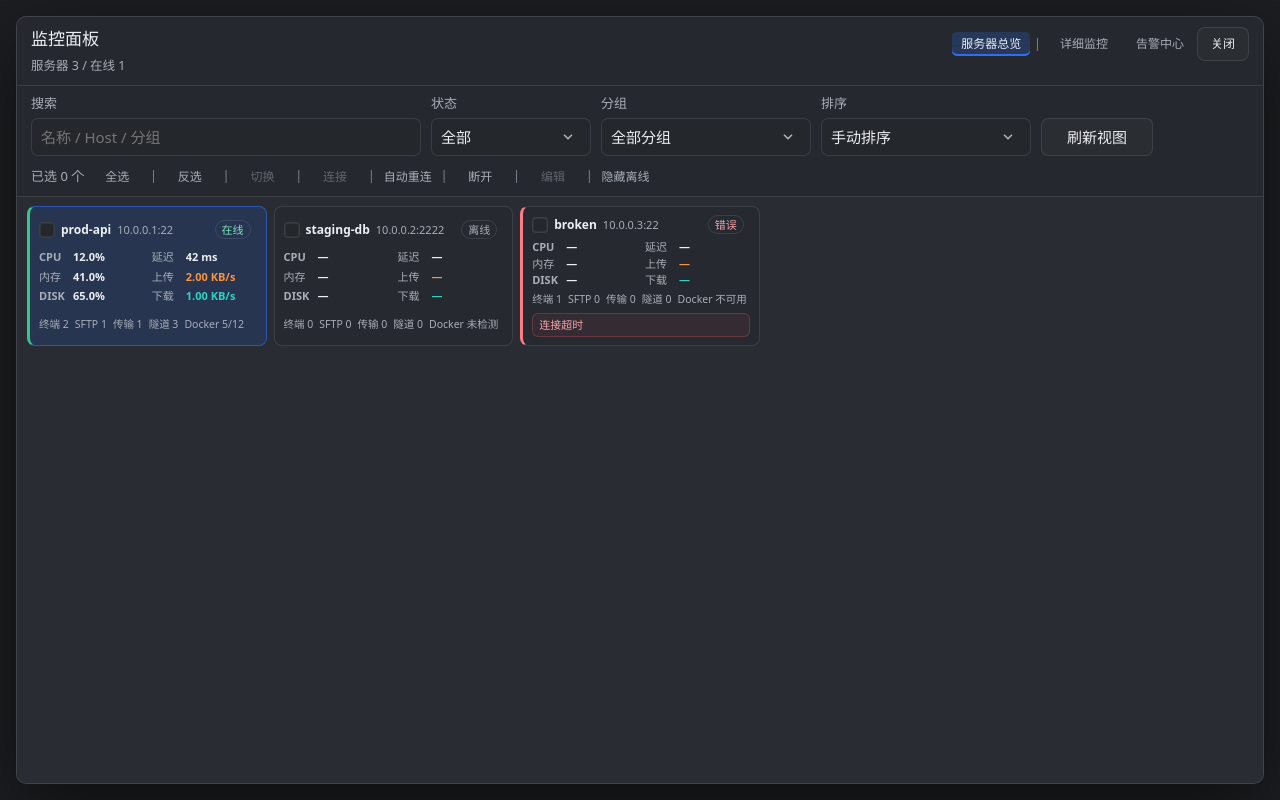
MultiServerDashboardDialog › allows a card click to deselect one server after select all
The width and height of the screenshot is (1280, 800).
Click the button with test id "dashboard-select-all".
click(117, 176)  # box [88,164,146,188]
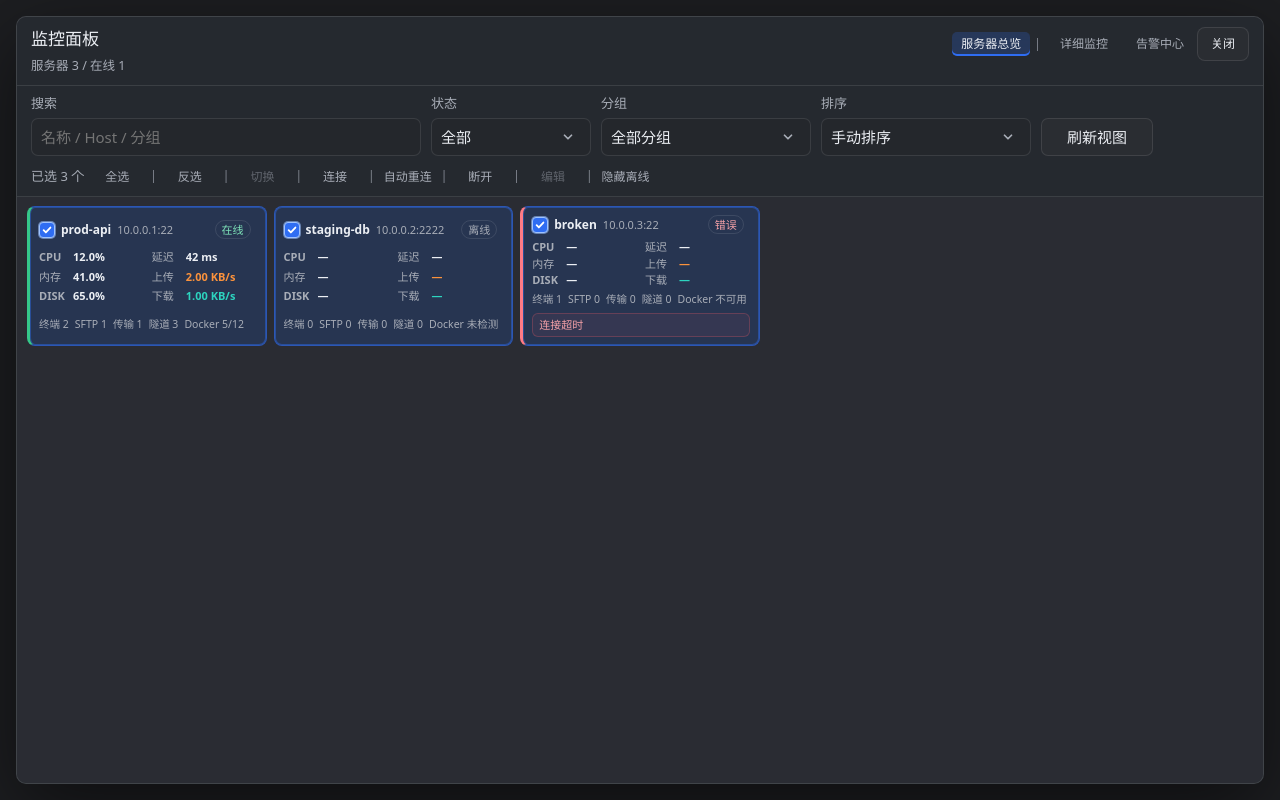
Check: the text "已选 3 个" is shown, box [31,167,84,186]
Click the element with test id "dashboard-server-card" that starts with "prod-api".
click(147, 276)  # box [27,206,267,346]
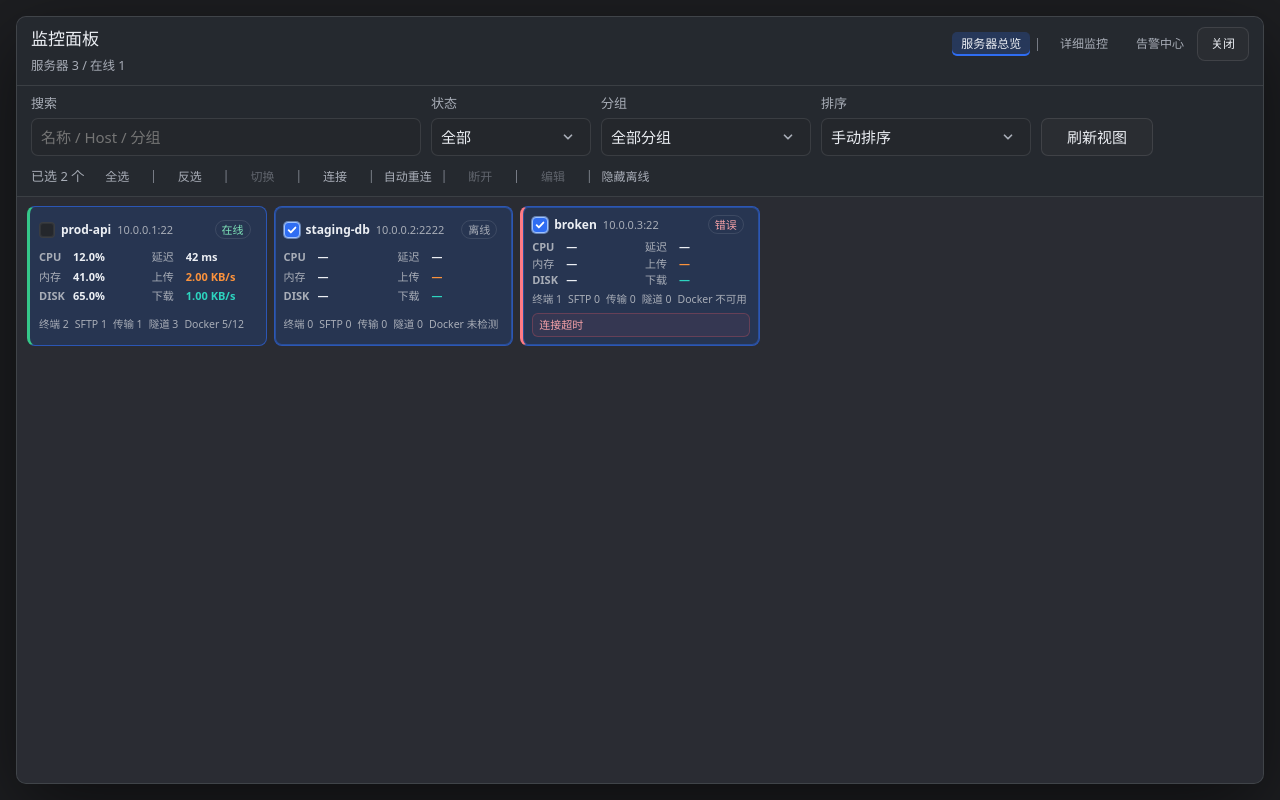
Check: the text "已选 2 个" is shown, box [31,167,84,186]
